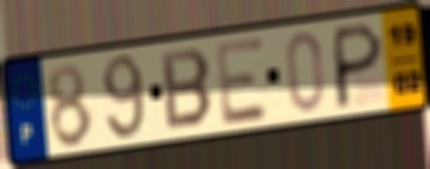0: (283, 30, 327, 115)
8: (45, 61, 95, 149)
9: (98, 52, 146, 142)
B: (159, 46, 215, 133)
E: (213, 33, 271, 129)
P: (333, 19, 386, 112)
